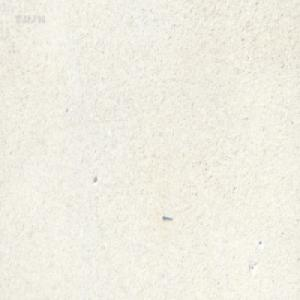Nail: (161, 212, 172, 220)
